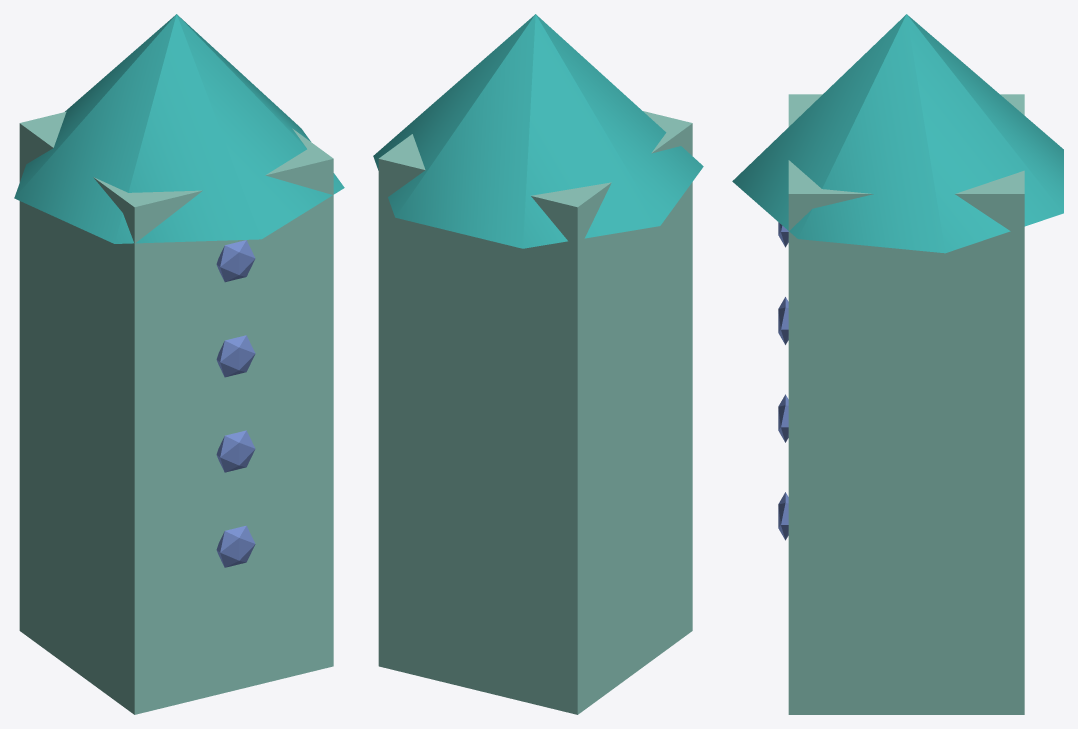
File: watchtower.glb
The picture shows the model from 3 angles, left to right: view 1: azimuth 30°, elevation 25°; view 2: azimuth 150°, elevation 25°; view 3: azimuth 270°, elevation 25°; orthographic projection. The views are drawn at different scales.
Visible parts, largest first — view 1: tower_body, tower_crown, window_3, window_0, window_1, window_2; view 2: tower_body, tower_crown; view 3: tower_body, tower_crown.
Boxes of the visible parts, x1=… form: tower_body: x1=19, y1=111, x2=333, y2=714; tower_crown: x1=14, y1=14, x2=344, y2=243; window_3: x1=216, y1=240, x2=255, y2=282; window_0: x1=216, y1=525, x2=255, y2=567; window_1: x1=216, y1=430, x2=255, y2=472; window_2: x1=216, y1=335, x2=255, y2=377; tower_body: x1=378, y1=111, x2=692, y2=714; tower_crown: x1=373, y1=14, x2=703, y2=248; tower_body: x1=788, y1=94, x2=1024, y2=714; tower_crown: x1=732, y1=14, x2=1063, y2=253.
Size of what is drawn, in the model's own units: 3.31 by 7 by 3.23.
